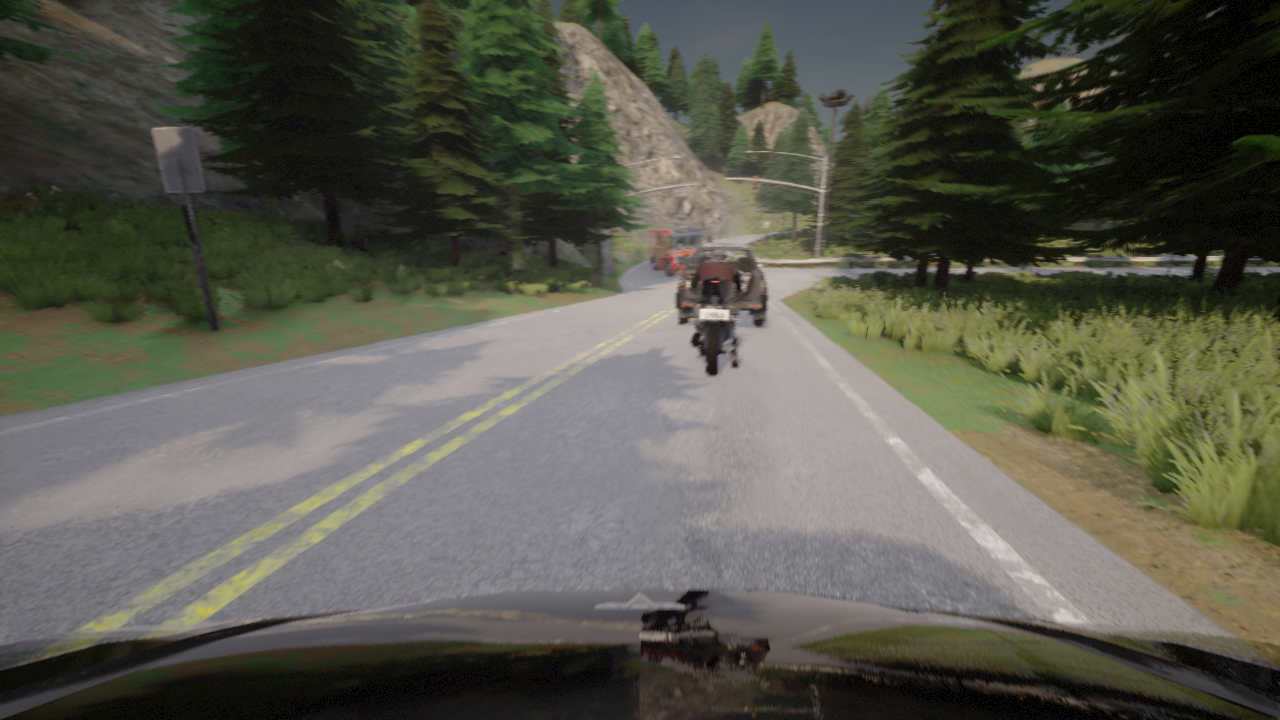cyclist: (0, 588, 1279, 719), (676, 243, 767, 326), (687, 272, 748, 376), (647, 222, 710, 275), (706, 232, 713, 242)
